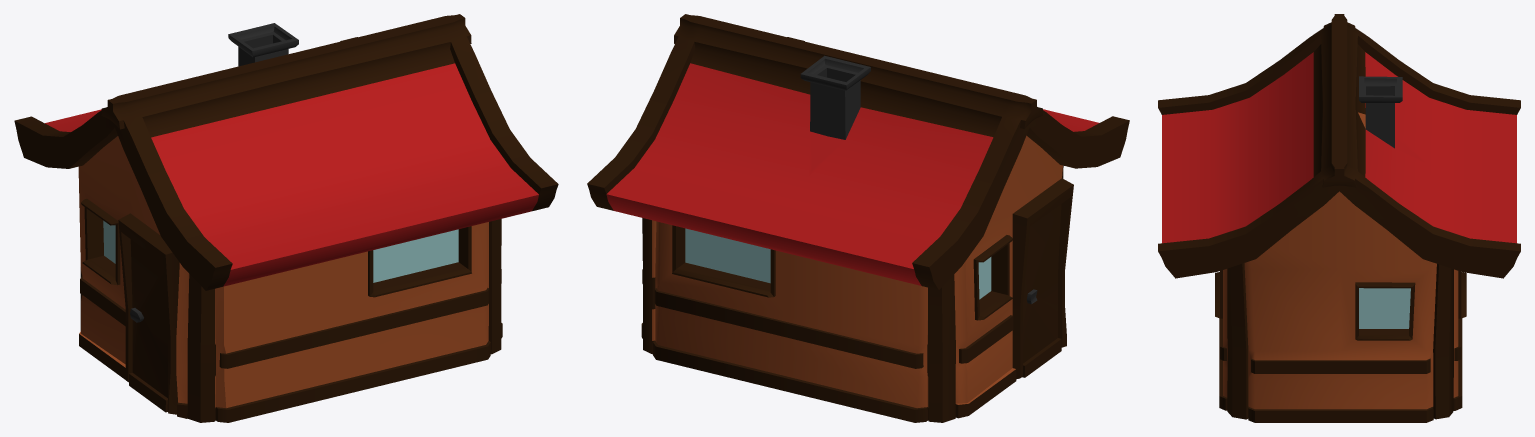
The model's file is House.FBX.
The picture shows the model from 3 angles, left to right: view 1: azimuth 30°, elevation 25°; view 2: azimuth 150°, elevation 25°; view 3: azimuth 270°, elevation 25°; orthographic projection. The views are drawn at different scales.
Parts seen in each view (by area): view 1: House_Top, House_Down; view 2: House_Top, House_Down; view 3: House_Top, House_Down.
Part boxes in pixels (x1=…): House_Top: x1=14, y1=14, x2=558, y2=290; House_Down: x1=78, y1=136, x2=502, y2=422; House_Top: x1=587, y1=14, x2=1129, y2=289; House_Down: x1=641, y1=135, x2=1073, y2=422; House_Top: x1=1158, y1=14, x2=1520, y2=278; House_Down: x1=1215, y1=191, x2=1466, y2=422.
Bounding box in the file's own units: 156 × 123 × 154.
